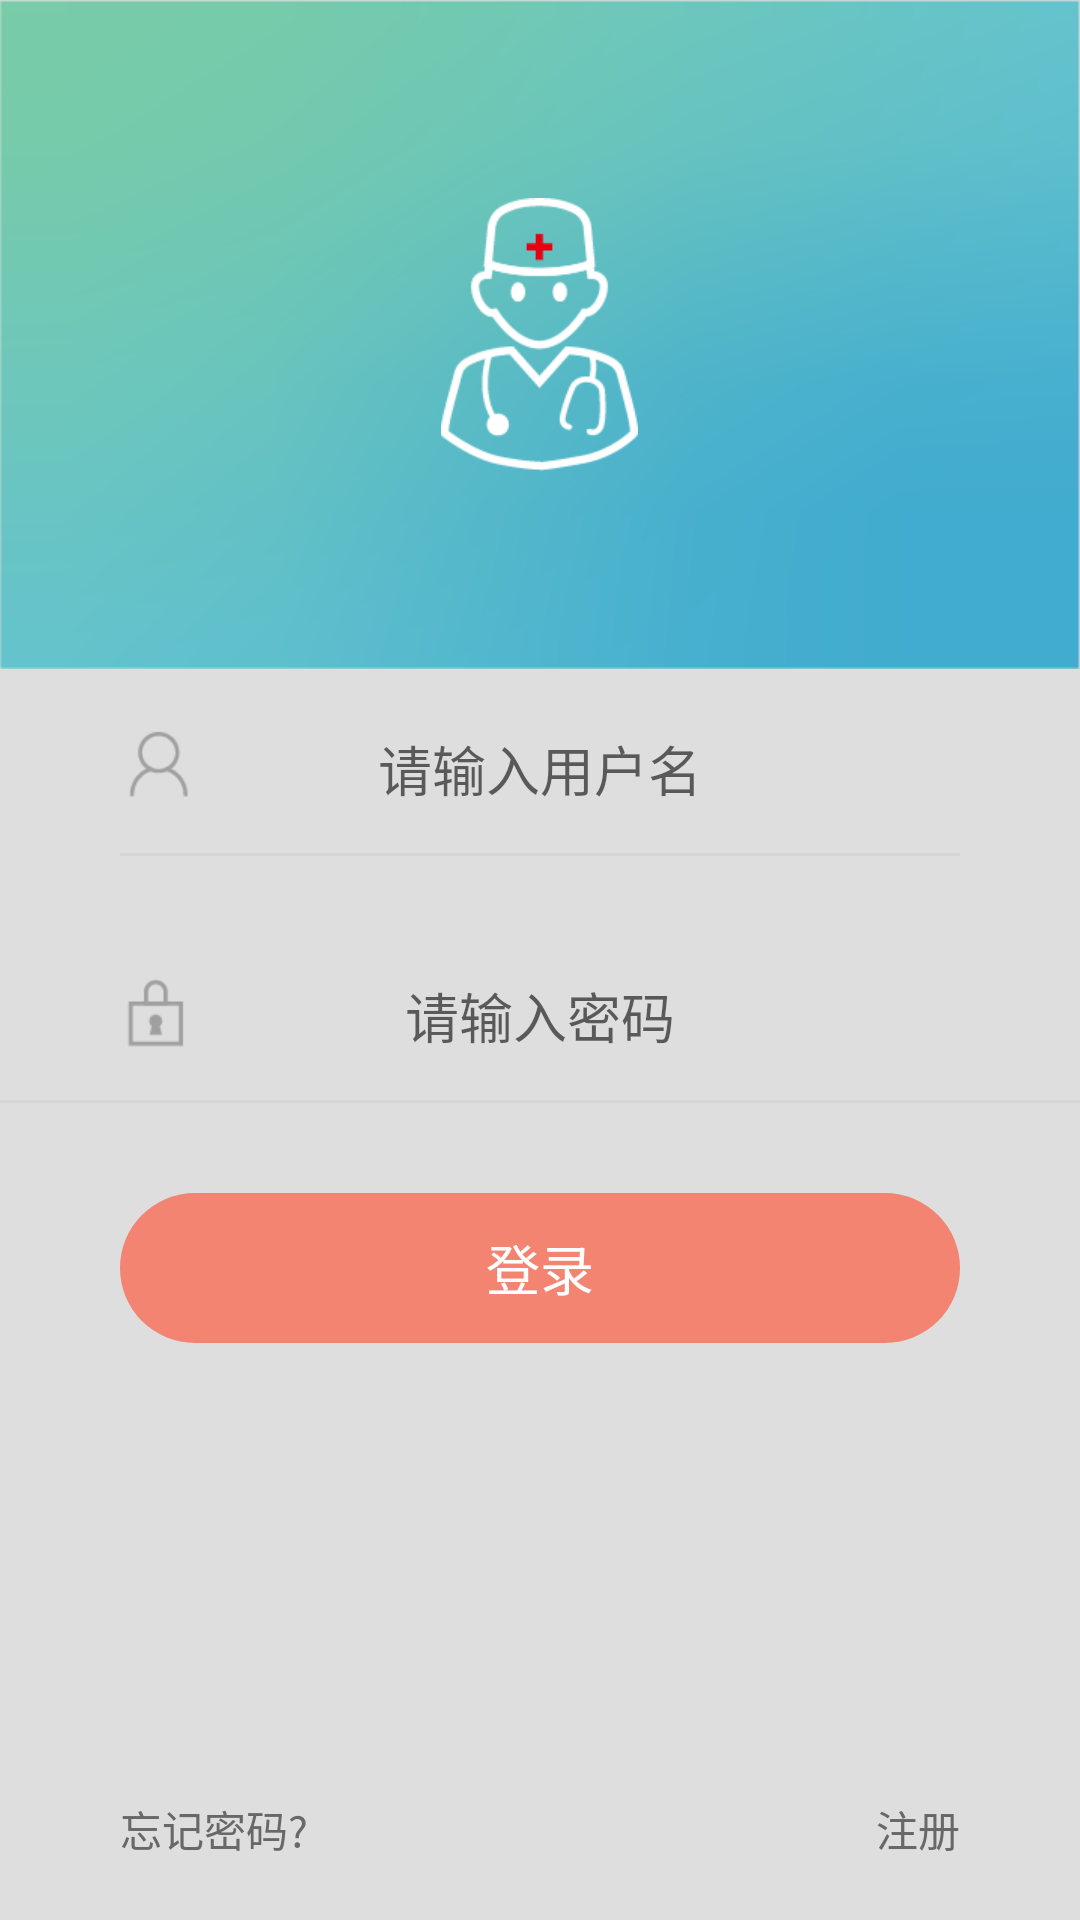

Screen size 1080x1920. Icon name, then its center in pixels as [x,y]:
login page password: [156,1013]
login page usr: [159,764]
